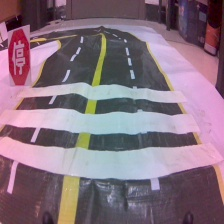stop: (8, 24, 33, 88)
